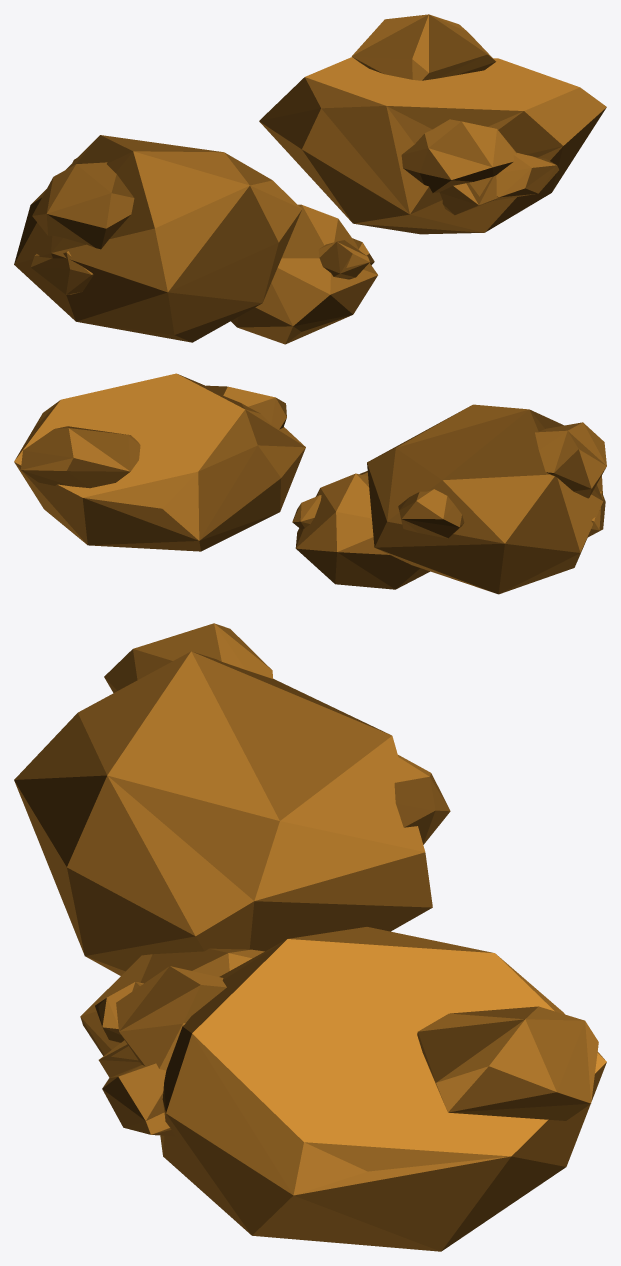
Rendered from Leaves_B.glb.
The picture shows the model from 3 angles, top to bottom: view 1: azimuth 30°, elevation 25°; view 2: azimuth 150°, elevation 25°; view 3: azimuth 270°, elevation 25°; orthographic projection. The views are drawn at different scales.
Parts seen in each view (by area): view 1: Leaves; view 2: Leaves; view 3: Leaves.
Boxes of the visible parts, x1,y1,x2,y2 form: Leaves: (14,14,606,344); Leaves: (14,373,606,594); Leaves: (14,623,606,1251).
Bounding box in the file's own units: 34.21 × 12.74 × 18.97.
